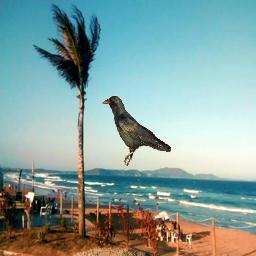Crow: (101, 94, 172, 166)
